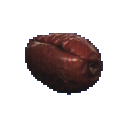ng: (18, 26, 109, 99)
